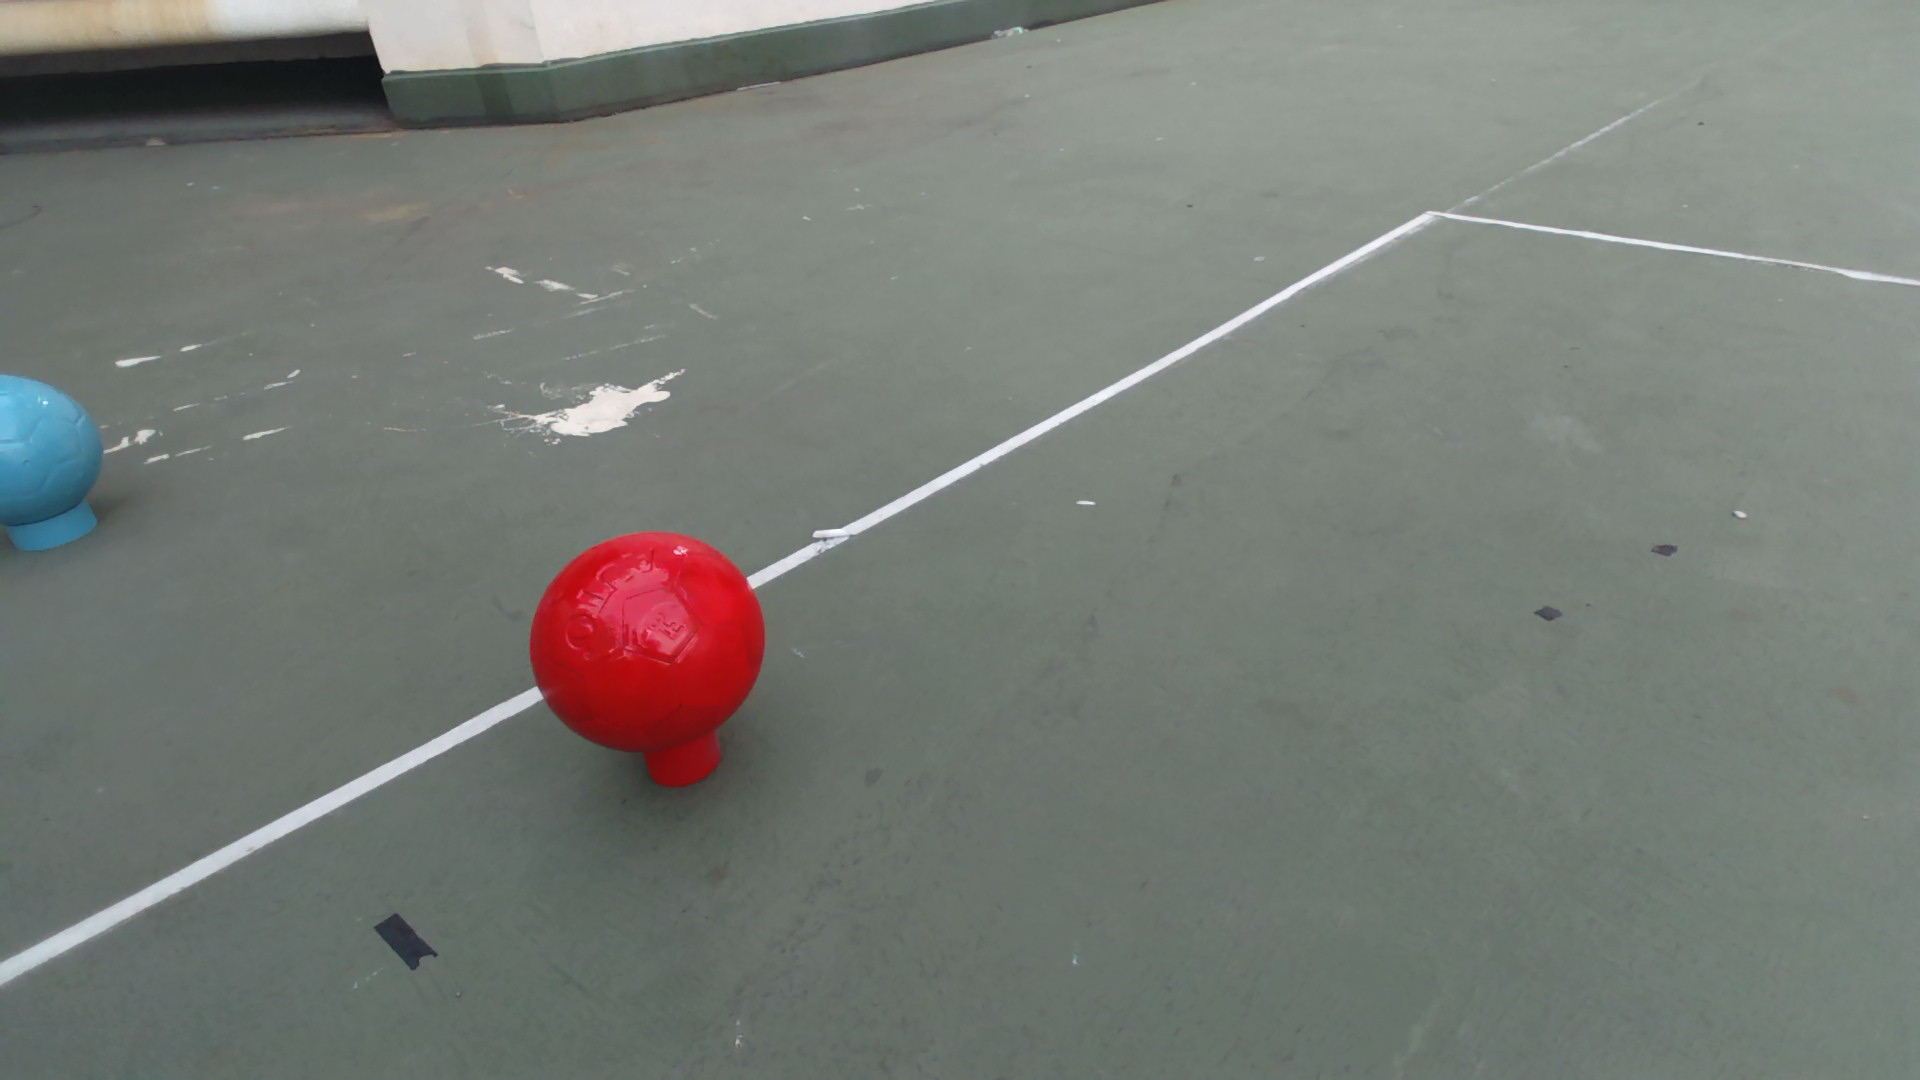Blue ball: (1, 371, 105, 534)
Red ball: (525, 527, 771, 754)
